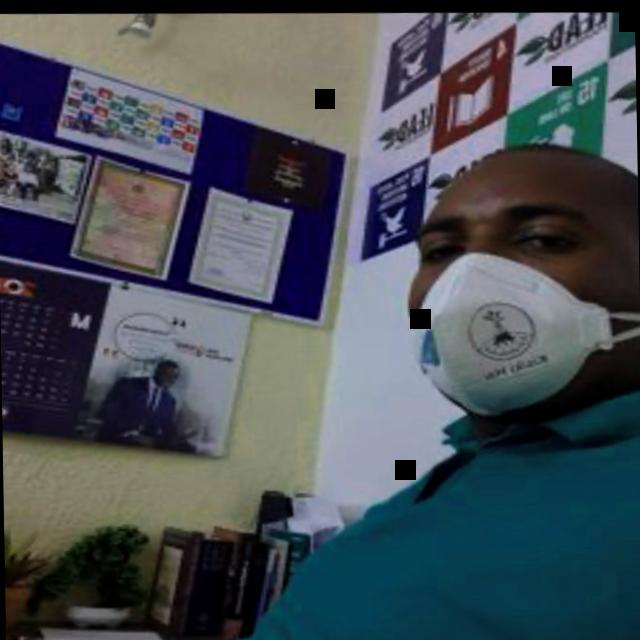Mask: (405, 144, 640, 415)
